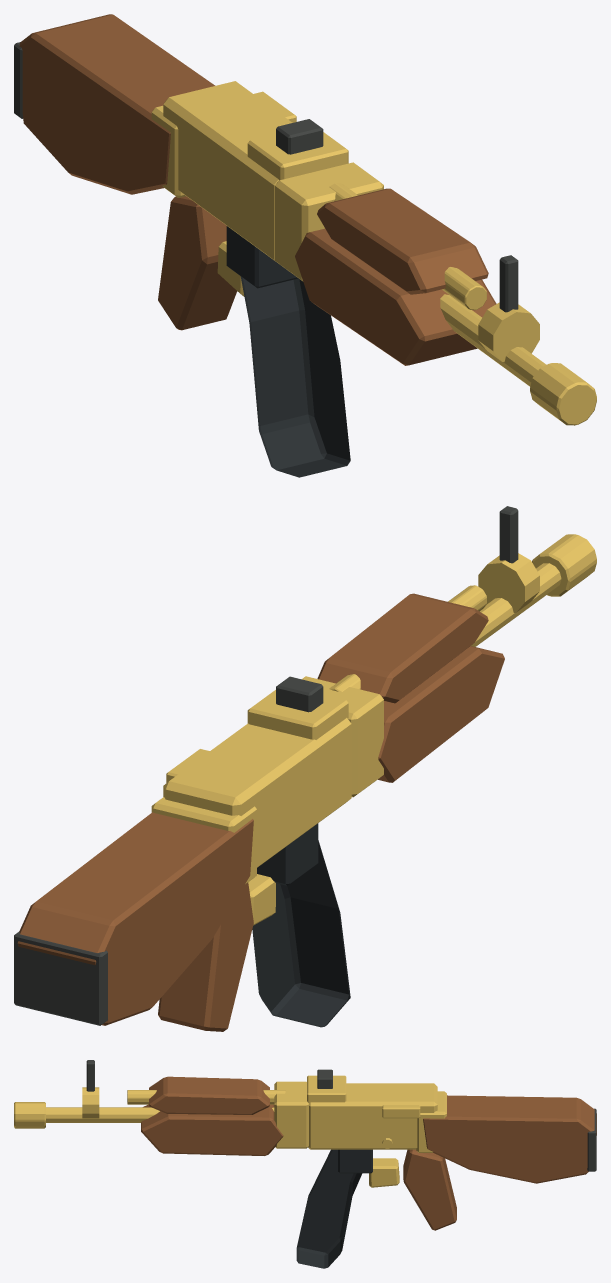
Rendered from AK47_Golden.glb.
The picture shows the model from 3 angles, top to bottom: view 1: azimuth 30°, elevation 25°; view 2: azimuth 150°, elevation 25°; view 3: azimuth 270°, elevation 25°; orthographic projection. The views are drawn at different scales.
Parts seen in each view (by area): view 1: FTF_Weapon_AK47_Gold_Mesh; view 2: FTF_Weapon_AK47_Gold_Mesh; view 3: FTF_Weapon_AK47_Gold_Mesh.
Part boxes in pixels (x1,y1,x2,y2): FTF_Weapon_AK47_Gold_Mesh: (14, 14, 596, 477); FTF_Weapon_AK47_Gold_Mesh: (14, 506, 596, 1031); FTF_Weapon_AK47_Gold_Mesh: (14, 1060, 596, 1268).
Size of the model in its own units: 0.198 by 0.7282 by 1.92.
